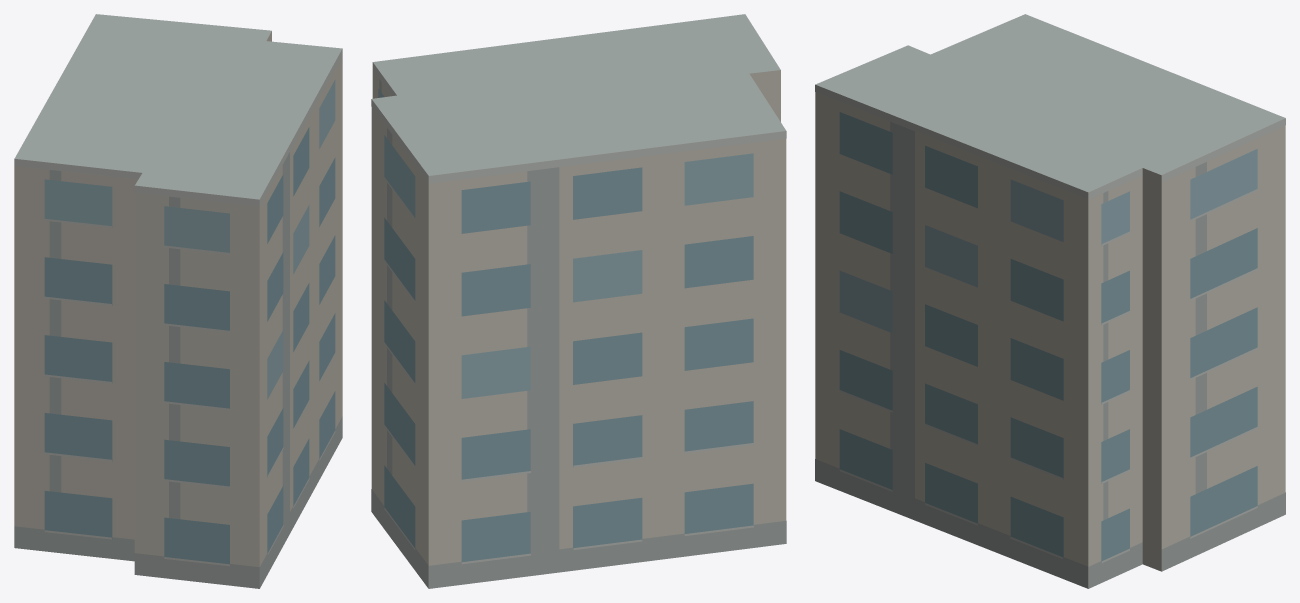
The model's file is survey-upis-32784822.glb.
3 renders of one model, left to right at view 1: azimuth 30°, elevation 25°; view 2: azimuth 150°, elevation 25°; view 3: azimuth 270°, elevation 25°, orthographic. The views are drawn at different scales.
Parts seen in each view (by area): view 1: survey-upis-32784822.tmp; view 2: survey-upis-32784822.tmp; view 3: survey-upis-32784822.tmp.
Part boxes in pixels (box(x1,y1,x2,y2)): survey-upis-32784822.tmp: box(14, 14, 342, 588); survey-upis-32784822.tmp: box(371, 14, 786, 588); survey-upis-32784822.tmp: box(815, 14, 1285, 588).
Size of the model in its own units: 12.75 by 13.2 by 14.21.
